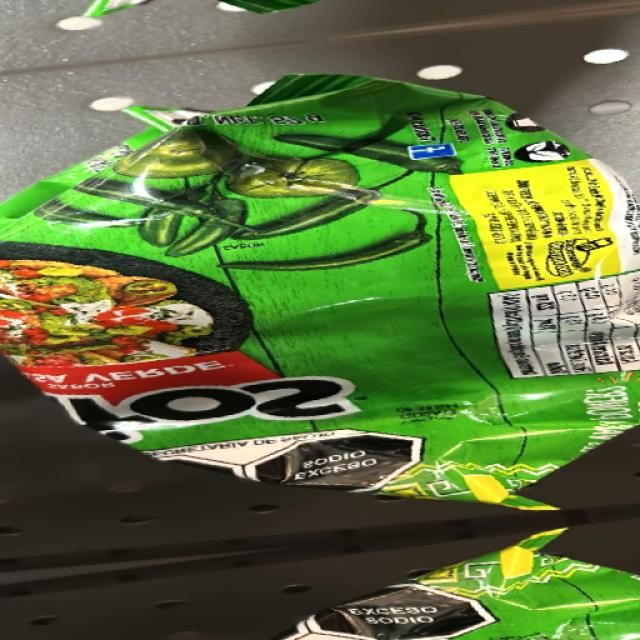tostitos: (4, 125, 515, 482)
